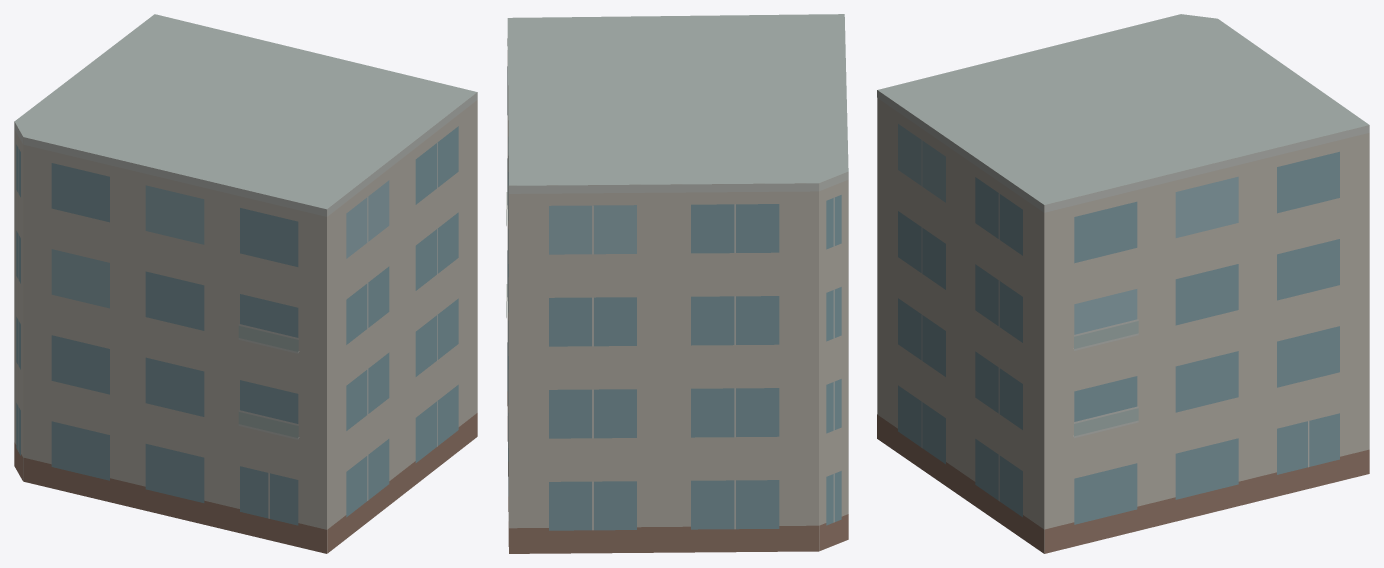
Rendered from survey-upis-32462442.glb.
The picture shows the model from 3 angles, left to right: view 1: azimuth 30°, elevation 25°; view 2: azimuth 150°, elevation 25°; view 3: azimuth 270°, elevation 25°; orthographic projection. The views are drawn at different scales.
Parts seen in each view (by area): view 1: survey-upis-32462442.tmp; view 2: survey-upis-32462442.tmp; view 3: survey-upis-32462442.tmp.
Boxes of the visible parts, x1,y1,x2,y2 form: survey-upis-32462442.tmp: [14, 14, 477, 553]; survey-upis-32462442.tmp: [506, 14, 848, 553]; survey-upis-32462442.tmp: [877, 14, 1369, 553].
Size of the model in its own units: 12.93 by 11 by 14.09.
